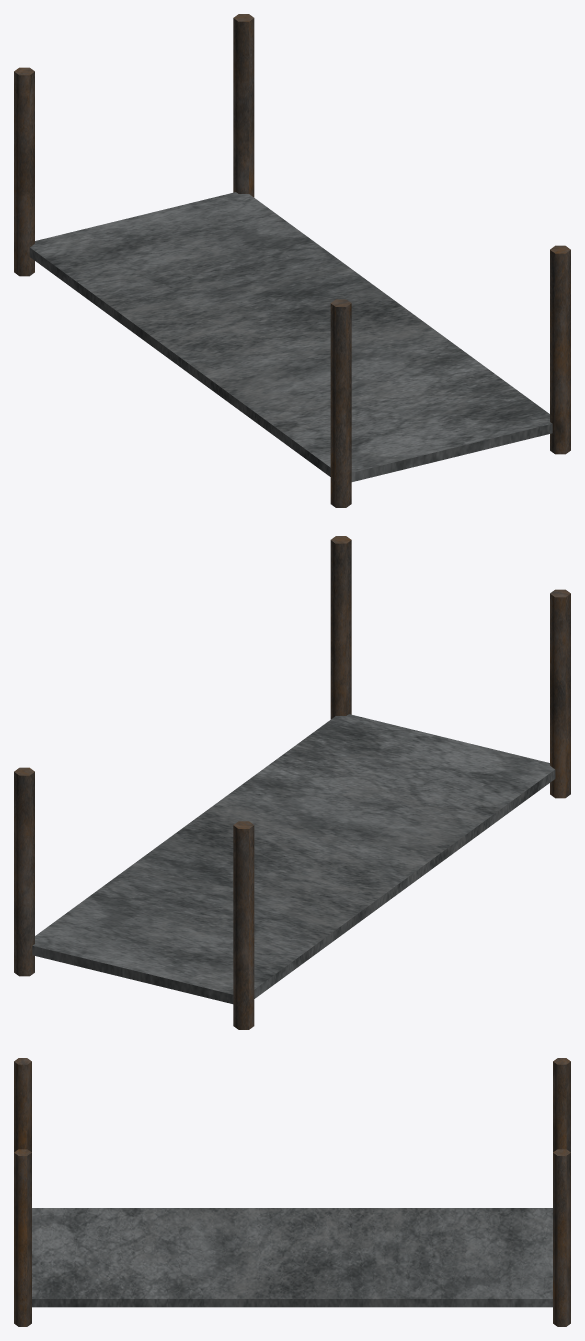
File: Shelf_03.fbx
3 renders of one model, top to bottom at view 1: azimuth 30°, elevation 25°; view 2: azimuth 150°, elevation 25°; view 3: azimuth 270°, elevation 25°, orthographic. The views are drawn at different scales.
Visible parts, largest first — view 1: Shelf_Flat, Object007, Object008, Object005, Object006; view 2: Shelf_Flat, Object005, Object006, Object007, Object008; view 3: Shelf_Flat, Object006, Object008, Object005, Object007.
Boxes of the visible parts, <box> form: Shelf_Flat: <box>29,192,552,481</box>; Object007: <box>330,299,351,507</box>; Object008: <box>550,245,570,454</box>; Object005: <box>14,67,34,276</box>; Object006: <box>233,14,254,197</box>; Shelf_Flat: <box>32,714,555,1003</box>; Object005: <box>233,821,254,1029</box>; Object006: <box>14,767,34,976</box>; Object007: <box>550,589,570,798</box>; Object008: <box>330,536,351,719</box>; Shelf_Flat: <box>32,1208,552,1307</box>; Object006: <box>553,1149,570,1326</box>; Object008: <box>14,1149,31,1326</box>; Object005: <box>553,1058,570,1152</box>; Object007: <box>14,1058,31,1152</box>.
Size of the model in its own units: 50.65 by 41.34 by 122.
